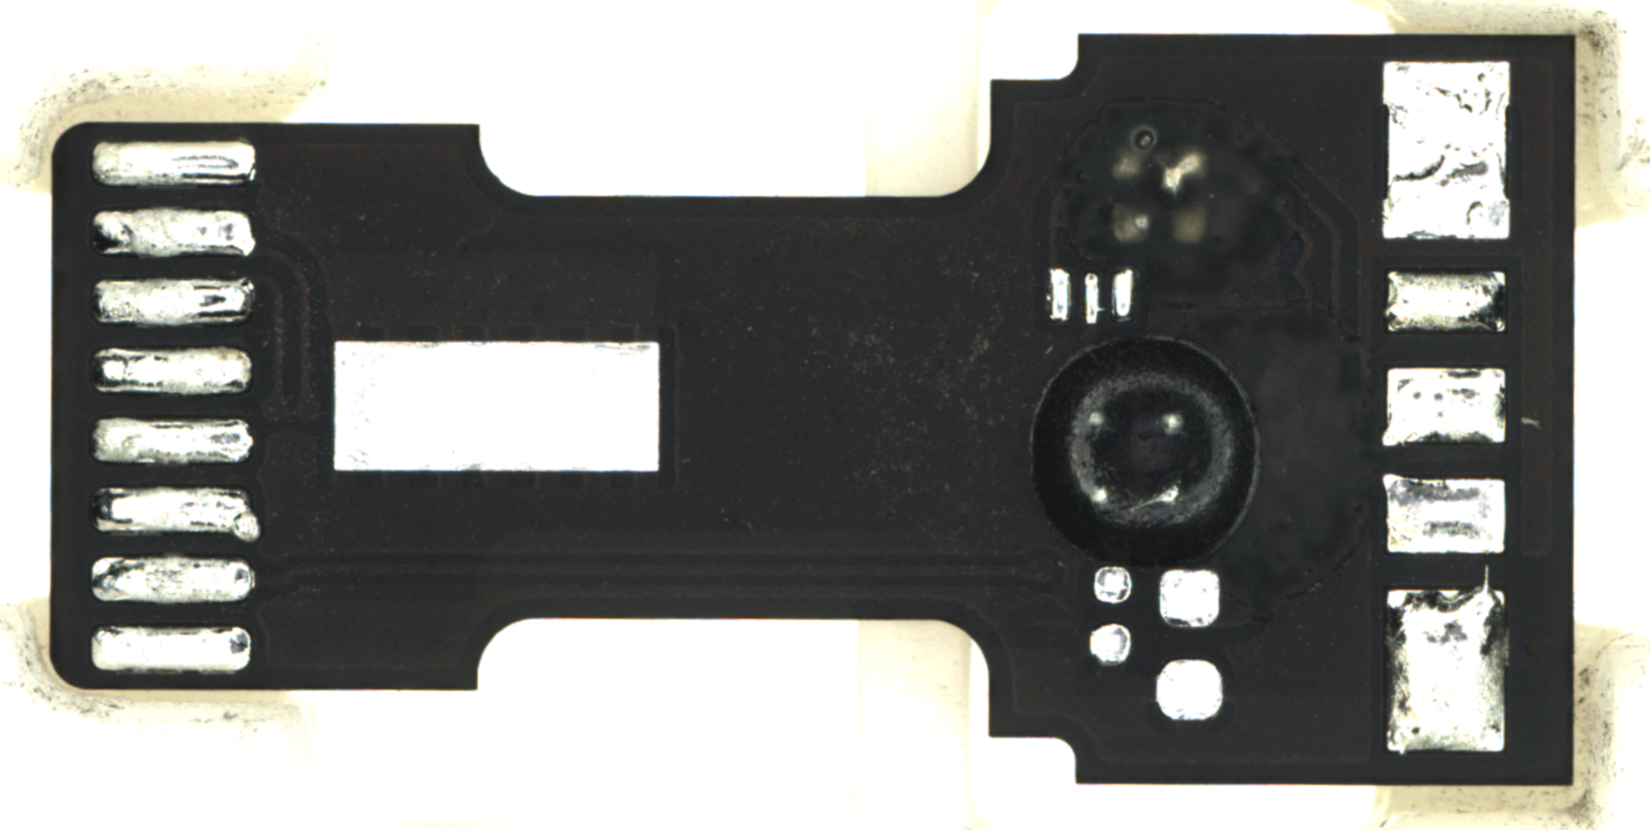d1_missing: (1040, 258, 1142, 333)
l1_dirty: (1096, 121, 1223, 256)
object: (320, 317, 676, 490)
smt_missing: (1152, 566, 1226, 727), (1086, 561, 1140, 669)
u2_damage: (1020, 328, 1272, 563)
